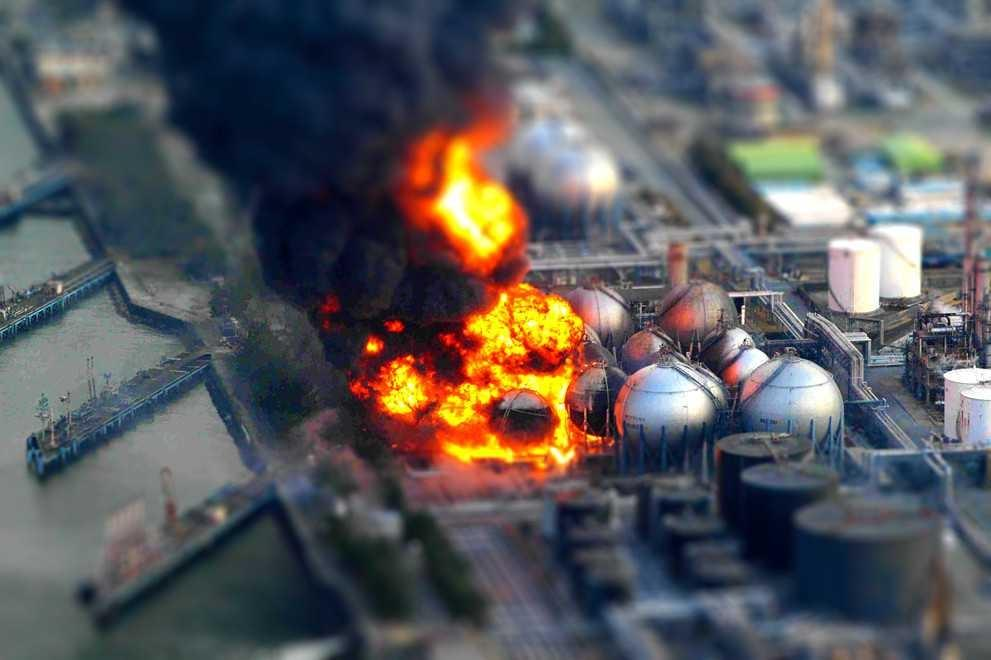fire: (487, 298, 568, 355), (450, 172, 508, 243), (388, 357, 422, 397)
smoke: (265, 108, 385, 233)
